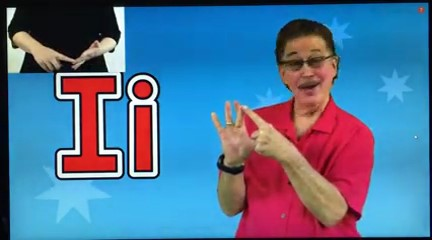I: (199, 98, 282, 167), (35, 39, 107, 71)
